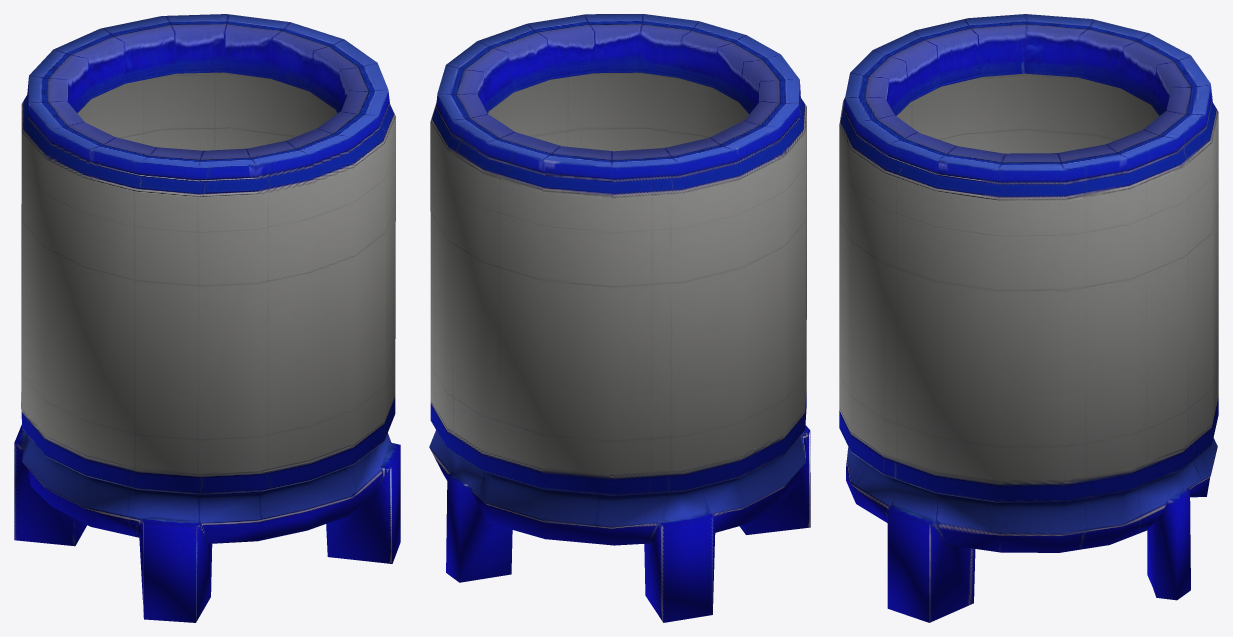
File: washing_machine.glb
The picture shows the model from 3 angles, left to right: view 1: azimuth 30°, elevation 25°; view 2: azimuth 150°, elevation 25°; view 3: azimuth 270°, elevation 25°; orthographic projection.
Parts seen in each view (by area): view 1: world; view 2: world; view 3: world.
Part boxes in pixels (x1,y1,x2,y2): world: [14, 14, 400, 622]; world: [429, 14, 810, 622]; world: [839, 14, 1218, 622].
Size of the model in its own units: 0.752 by 0.998 by 0.748.
Materials: 1 (1 with a texture image).
